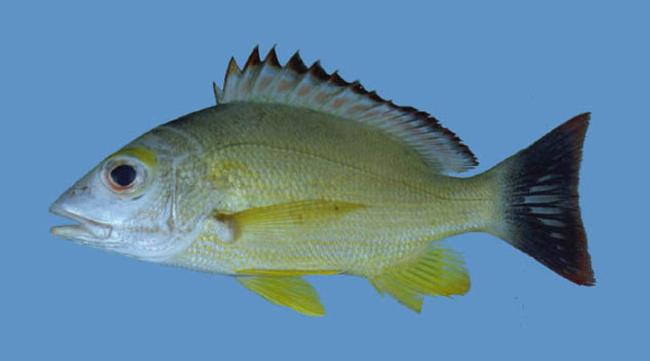fish: (47, 42, 599, 317)
